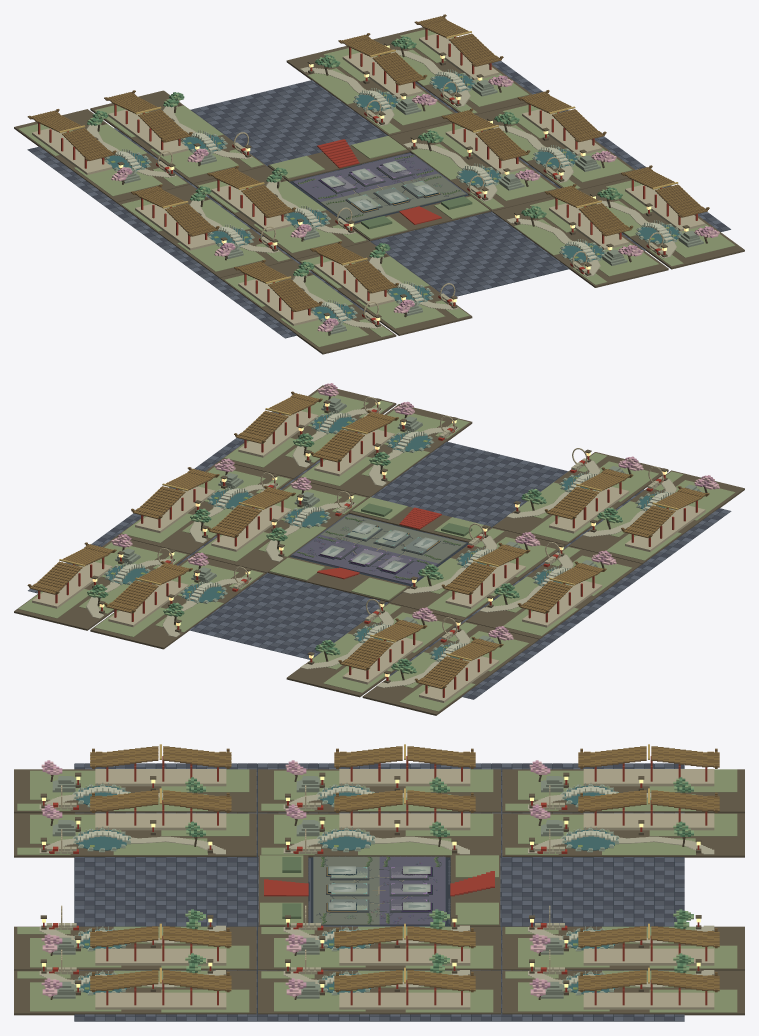
Rendered from dynasty.glb.
The picture shows the model from 3 angles, top to bottom: view 1: azimuth 30°, elevation 25°; view 2: azimuth 150°, elevation 25°; view 3: azimuth 270°, elevation 25°; orthographic projection. The views are drawn at different scales.
Visible parts, largest first — view 1: 24_Continuous_Outer_Floor_rock3, 24_Continuous_Outer_Floor_rock, 24_Continuous_Outer_Floor_rock2, 24_Outer_Floor_Mortar, Decorated_Halves_With_Six_Grounded_Stone_Bases, Approach_Flanking_Terraces, Landscape_Terrain_Fields__West_1_1, Landscape_Terrain_Fields__West_1_-1, Landscape_Terrain_Fields__East_0_1, Landscape_Terrain_Fields__West_1_0, Landscape_Terrain_Fields__East_0_-1, Landscape_Terrain_Fields__East_0_0 (+59 smaller); view 2: 24_Continuous_Outer_Floor_rock2, 24_Continuous_Outer_Floor_rock3, 24_Continuous_Outer_Floor_rock, 24_Outer_Floor_Mortar, Decorated_Halves_With_Six_Grounded_Stone_Bases, Approach_Flanking_Terraces, Landscape_Terrain_Fields__East_0_-1, Landscape_Terrain_Fields__East_0_1, Landscape_Terrain_Fields__East_0_0, Landscape_Terrain_Fields__West_1_0, Landscape_Terrain_Fields__West_1_-1, Landscape_Terrain_Fields__West_1_1 (+56 smaller); view 3: 24_Continuous_Outer_Floor_rock3, 24_Continuous_Outer_Floor_rock2, 24_Continuous_Outer_Floor_rock, 24_Outer_Floor_Mortar, Decorated_Halves_With_Six_Grounded_Stone_Bases, Landscape_Terrain_Fields__West_0_1, Landscape_Terrain_Fields__West_0_-1, Landscape_Terrain_Fields, Approach_Flanking_Terraces, Landscape_Terrain_Fields__East_1_-1, Landscape_Terrain_Fields__East_1_0, Landscape_Terrain_Fields__East_1_1 (+63 smaller).
Boxes of the visible parts, <box> form: 24_Continuous_Outer_Floor_rock3: <box>36,61,721,337</box>; 24_Continuous_Outer_Floor_rock: <box>27,62,725,335</box>; 24_Continuous_Outer_Floor_rock2: <box>32,62,730,334</box>; 24_Outer_Floor_Mortar: <box>28,62,730,338</box>; Decorated_Halves_With_Six_Grounded_Stone_Bases: <box>292,153,466,222</box>; Approach_Flanking_Terraces: <box>269,136,489,239</box>; Landscape_Terrain_Fields__West_1_1: <box>224,275,392,347</box>; Landscape_Terrain_Fields__West_1_-1: <box>18,124,186,196</box>; Landscape_Terrain_Fields__East_0_1: <box>514,199,658,284</box>; Landscape_Terrain_Fields__West_1_0: <box>121,199,290,271</box>; Landscape_Terrain_Fields__East_0_-1: <box>307,48,452,133</box>; Landscape_Terrain_Fields__East_0_0: <box>411,123,555,209</box>; 24_Continuous_Outer_Floor_rock2: <box>35,411,726,697</box>; 24_Continuous_Outer_Floor_rock3: <box>28,432,730,694</box>; 24_Continuous_Outer_Floor_rock: <box>75,414,723,699</box>; 24_Outer_Floor_Mortar: <box>28,432,731,699</box>; Decorated_Halves_With_Six_Grounded_Stone_Bases: <box>292,514,466,584</box>; Approach_Flanking_Terraces: <box>269,497,489,600</box>; Landscape_Terrain_Fields__East_0_-1: <box>94,561,263,637</box>; Landscape_Terrain_Fields__East_0_1: <box>300,410,469,486</box>; Landscape_Terrain_Fields__East_0_0: <box>198,485,366,561</box>; Landscape_Terrain_Fields__West_1_0: <box>487,547,631,635</box>; Landscape_Terrain_Fields__West_1_-1: <box>384,622,529,711</box>; Landscape_Terrain_Fields__West_1_1: <box>590,471,735,560</box>; 24_Continuous_Outer_Floor_rock3: <box>75,763,684,1020</box>; 24_Continuous_Outer_Floor_rock2: <box>75,763,684,1020</box>; 24_Continuous_Outer_Floor_rock: <box>75,763,684,1020</box>; 24_Outer_Floor_Mortar: <box>74,763,684,1021</box>; Decorated_Halves_With_Six_Grounded_Stone_Bases: <box>313,856,445,925</box>; Landscape_Terrain_Fields__West_0_1: <box>17,813,249,855</box>; Landscape_Terrain_Fields__West_0_-1: <box>505,813,737,855</box>; Landscape_Terrain_Fields: <box>261,813,493,855</box>; Approach_Flanking_Terraces: <box>260,855,498,924</box>; Landscape_Terrain_Fields__East_1_-1: <box>505,970,737,1012</box>; Landscape_Terrain_Fields__East_1_0: <box>261,970,493,1012</box>; Landscape_Terrain_Fields__East_1_1: <box>17,970,249,1012</box>.
Size of the model in its own units: 48 by 2.88 by 57.5.
Materials: 43 (1 with a texture image).
